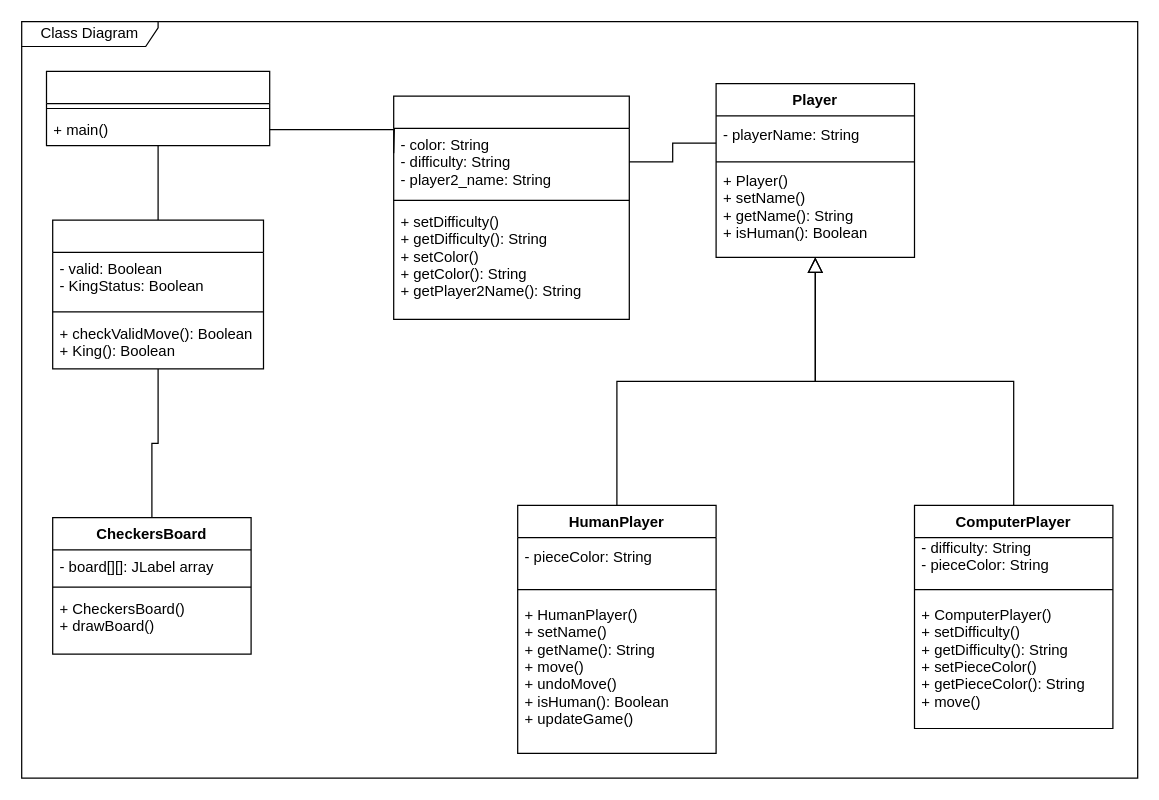
This 1159x800 diagram has some shape labels left out. Each missing label, with the box of its shape:
CheckersGame: (51, 219, 264, 369)
PlayerChoice: (392, 95, 629, 319)
StartGame: (45, 70, 270, 146)
